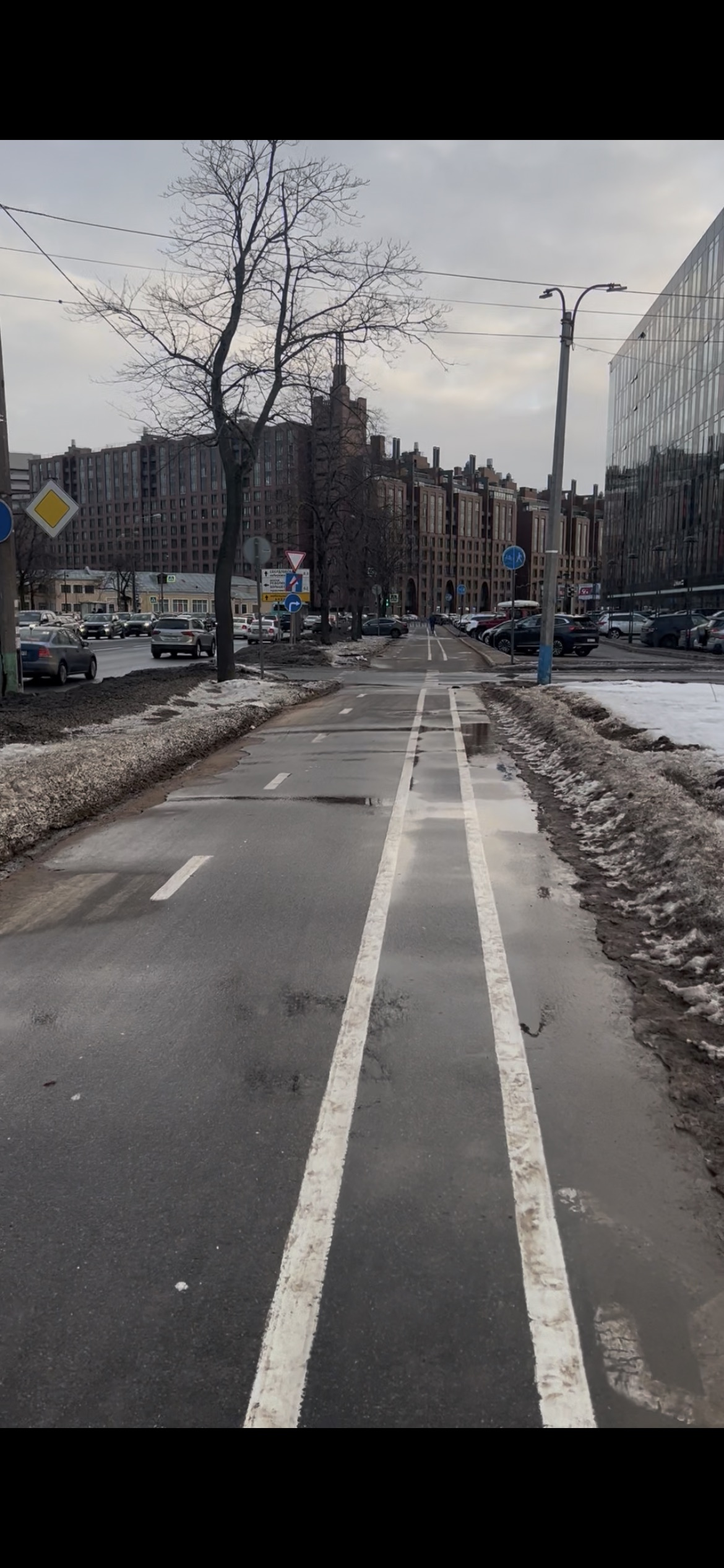road sign: (25, 480, 80, 539), (262, 569, 310, 602), (285, 551, 307, 572), (286, 573, 302, 592)
